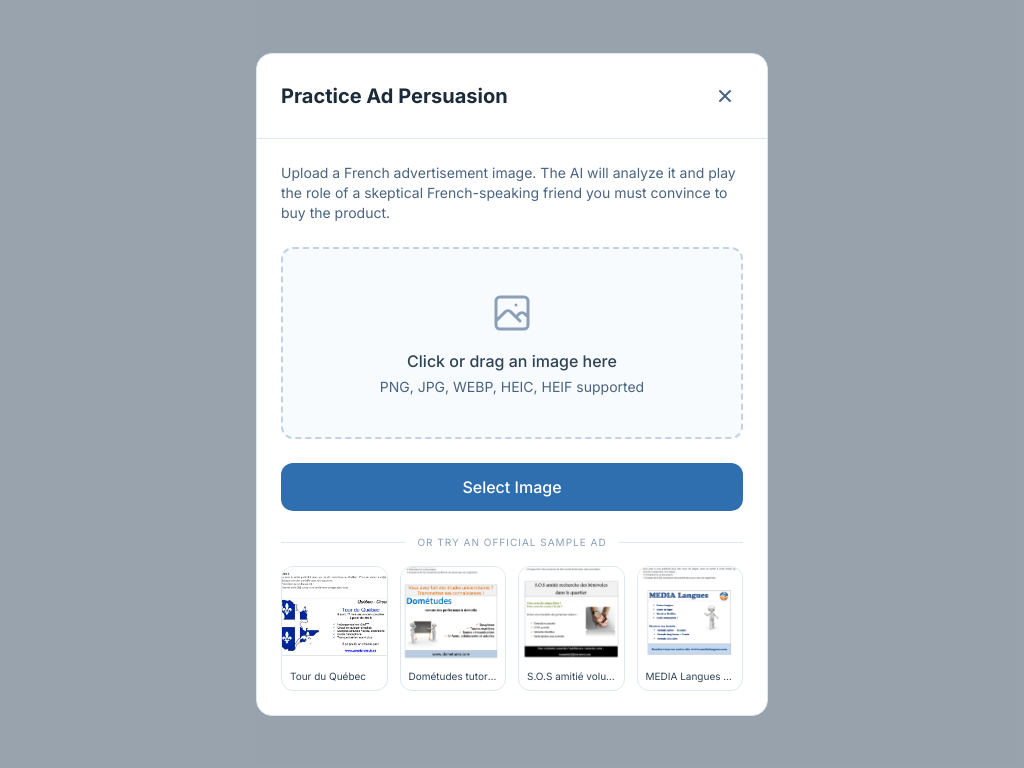
it: a second thumbnail click during the FileReader gap does not start a second analysis
Click the button "Tour du Québec". click: (334, 628)
box: [281,566,388,690]
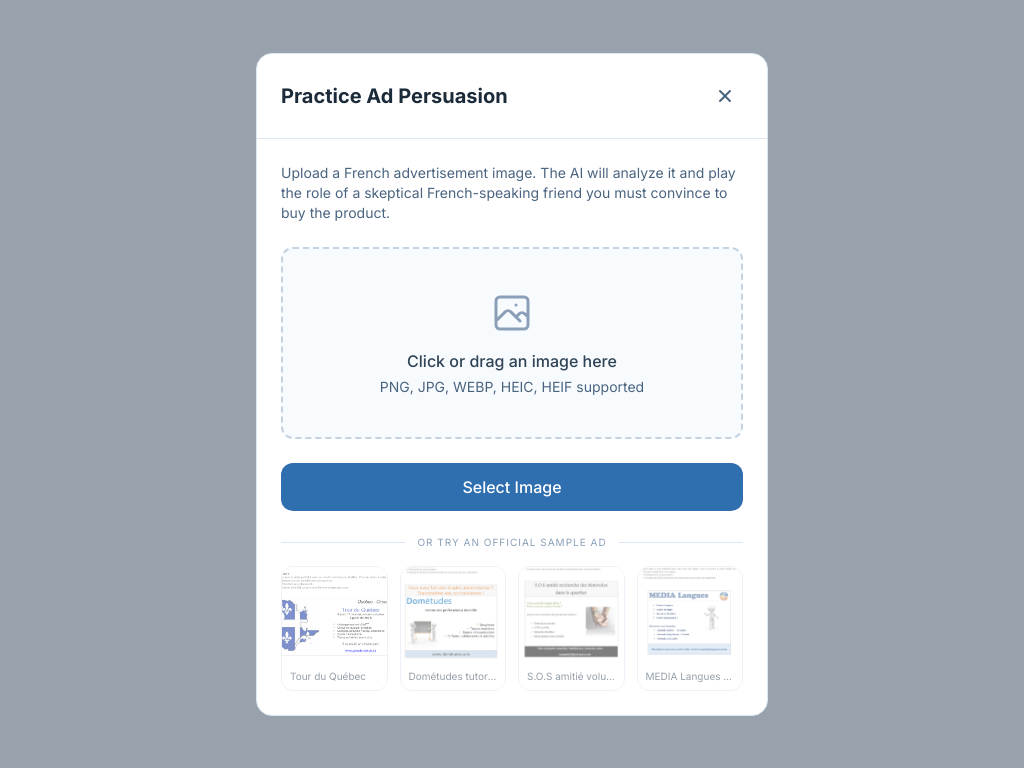
// Reader has not finished yet: the parent is still on the upload step.
Click the button "Dométudes tutoring". click: (453, 628)
box: [400,566,506,690]
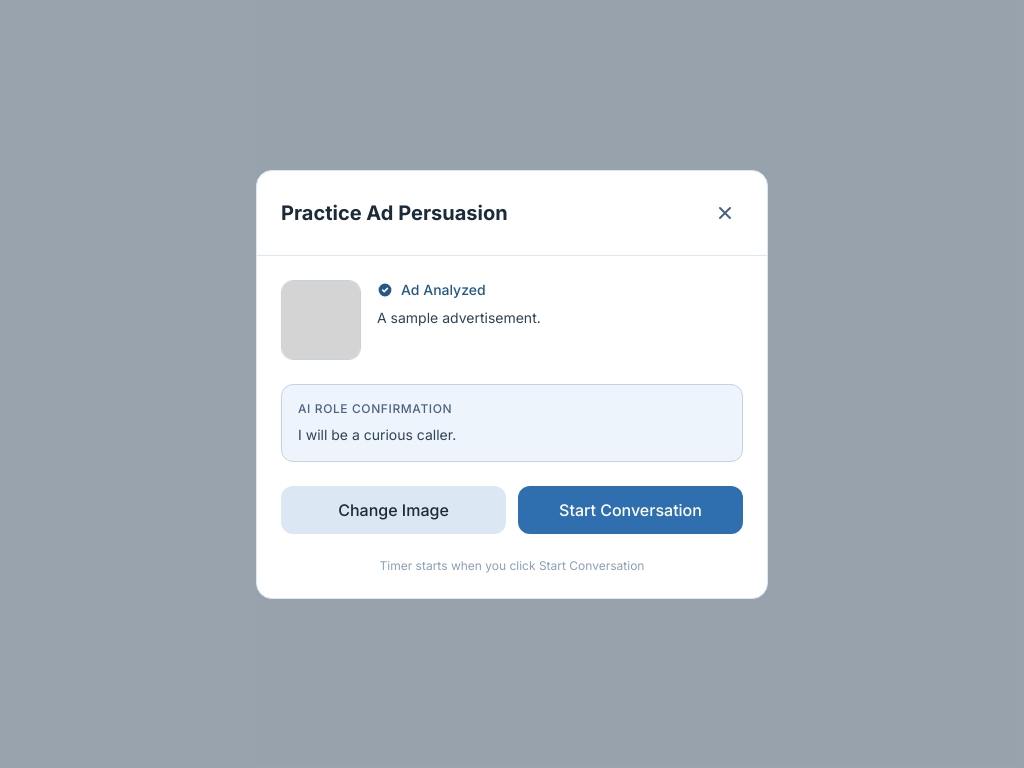
Result: the button "Start Conversation" is shown at [518,486,743,534]
